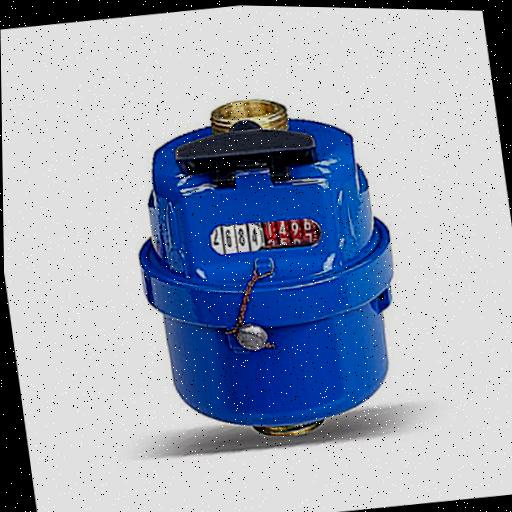1: (263, 222, 278, 249)
2: (209, 226, 224, 254)
4: (248, 223, 265, 250), (277, 221, 291, 247)
6: (302, 217, 324, 245), (222, 225, 237, 254)
8: (235, 224, 250, 251)
9: (289, 219, 303, 245)
border_water_meter_number: (208, 213, 325, 259)
